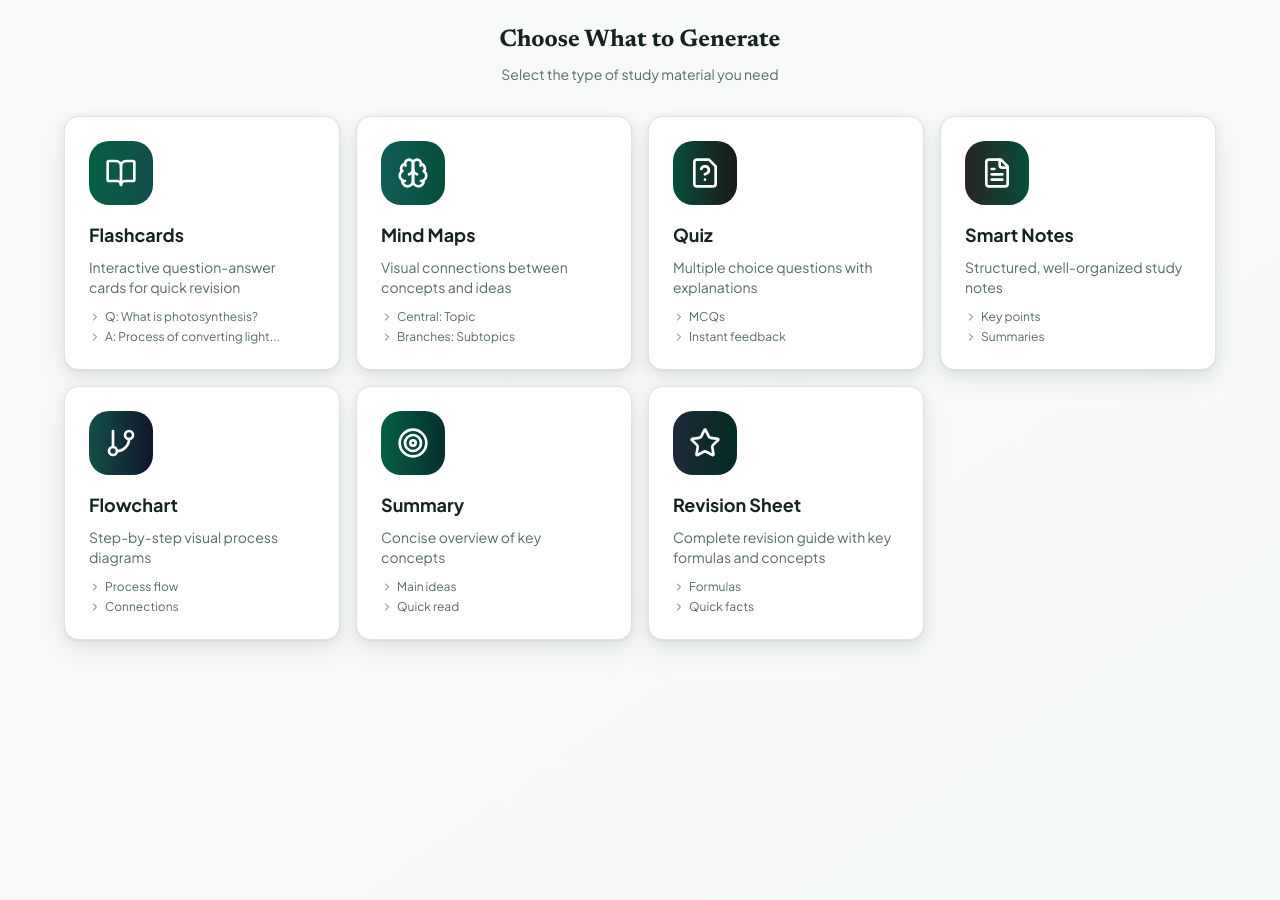
AI Study Material Generator - Dual Source Modes & Grounded Retrieval › 1. Renders "Choose Study Material Source" with Existing Resources and New Material buttons
Click the heading "Flashcards" at (136, 234), box [89,223,184,246]
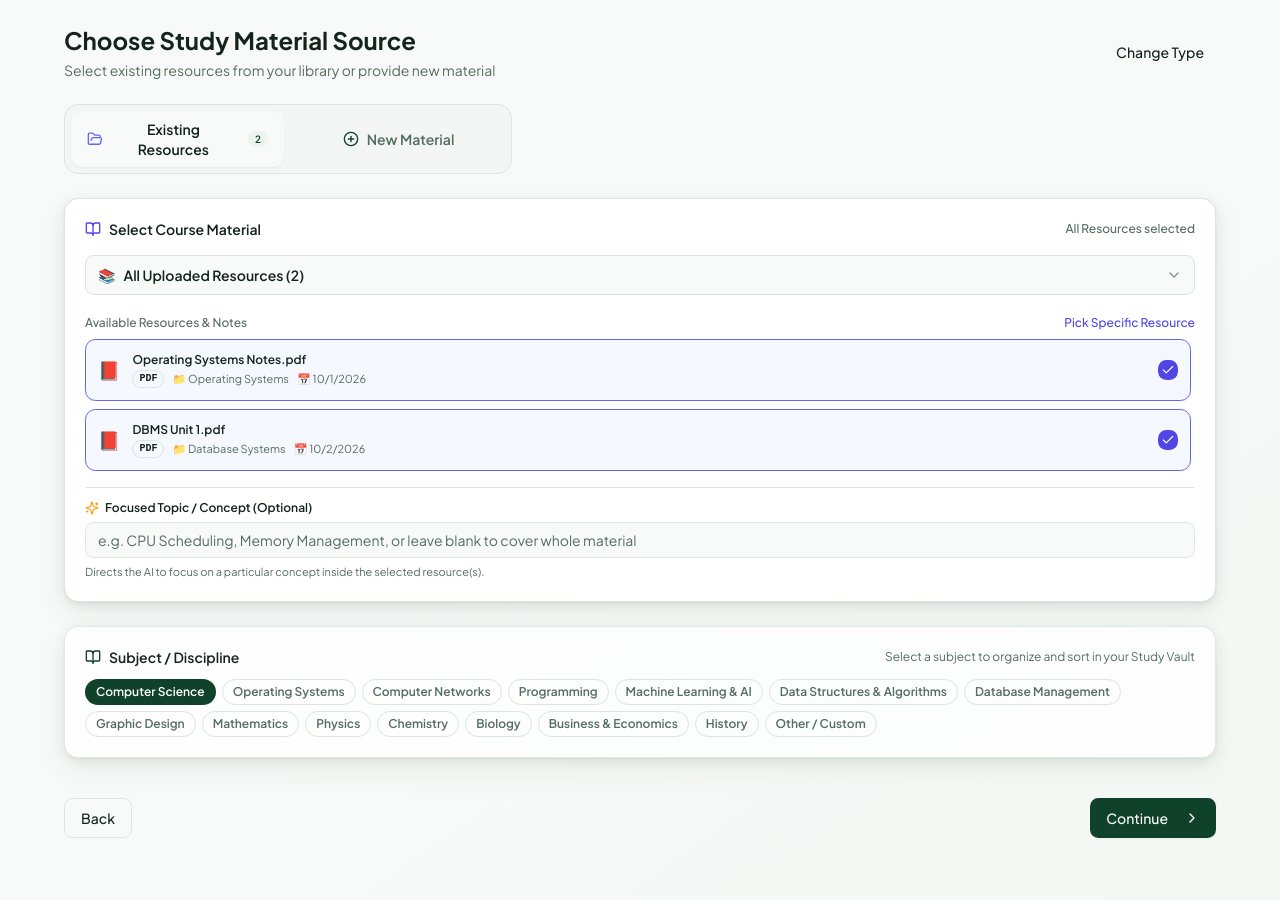
Result: the heading "Choose Study Material Source" is shown at [64,25,416,55]
Result: the button "Existing Resources 2" is shown at [71,111,284,167]
Result: the button "New Material" is shown at [292,121,505,157]
